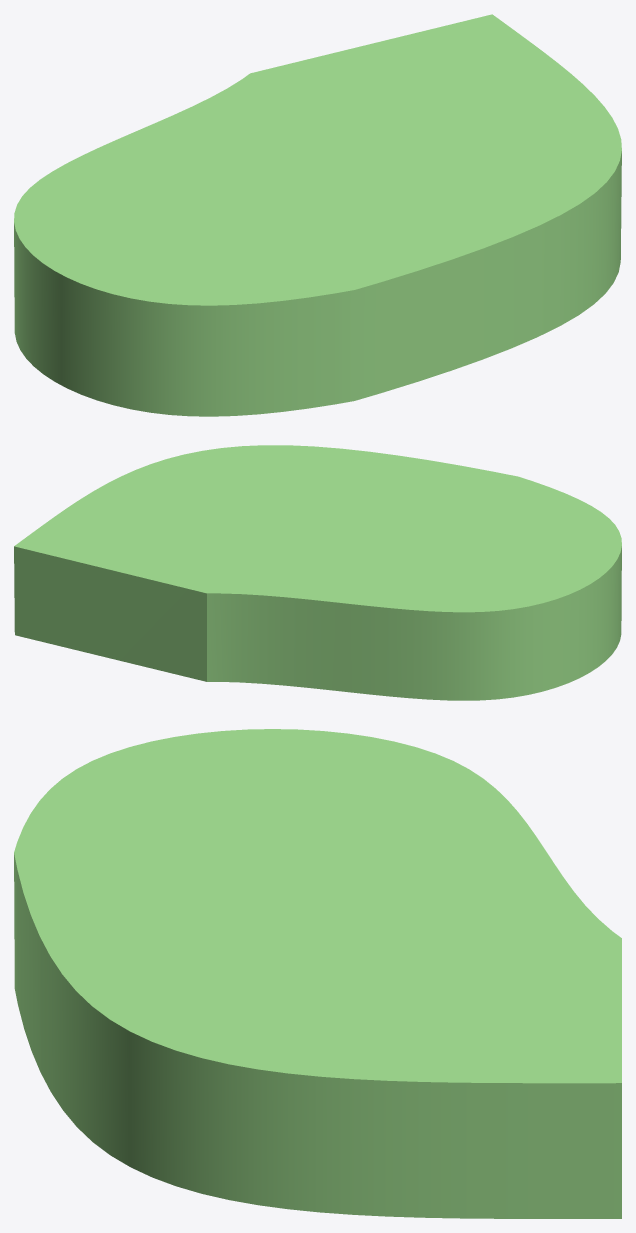
The model's file is MobilePlat.fbx.
The picture shows the model from 3 angles, top to bottom: view 1: azimuth 30°, elevation 25°; view 2: azimuth 150°, elevation 25°; view 3: azimuth 270°, elevation 25°; orthographic projection. The views are drawn at different scales.
Visible parts, largest first — view 1: PlataformaMovil; view 2: PlataformaMovil; view 3: PlataformaMovil.
Part boxes in pixels (x1,y1,x2,y2): PlataformaMovil: (14, 14, 621, 416); PlataformaMovil: (14, 445, 621, 700); PlataformaMovil: (14, 729, 621, 1218).
Bounding box in the file's own units: 341 × 61.32 × 248.
